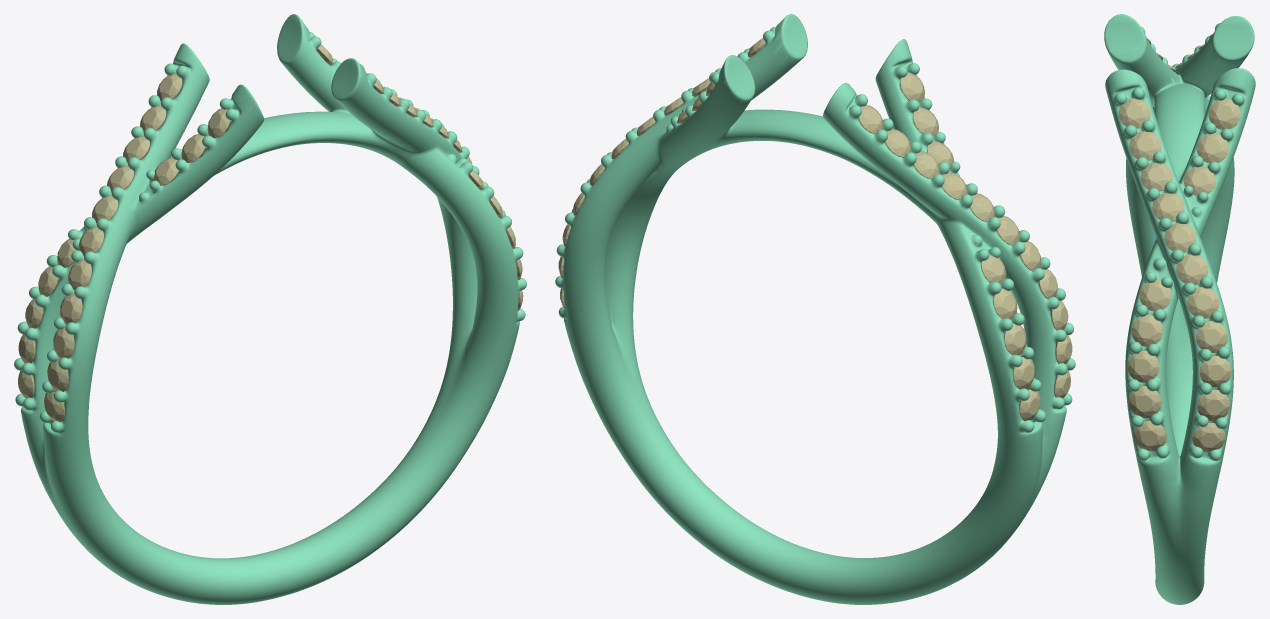
The picture shows the model from 3 angles, left to right: view 1: azimuth 30°, elevation 25°; view 2: azimuth 150°, elevation 25°; view 3: azimuth 270°, elevation 25°; orthographic projection.
Parts seen in each view (by area): view 1: Metal02; view 2: Metal02; view 3: Metal02, Diamond_Gem.001, Diamond_Gem.003, Diamond_Gem.004, Diamond_Gem.030, Diamond_Gem.032, Diamond_Gem.008, Diamond_Gem.005, Diamond_Gem.002, Diamond_Gem.033, Diamond_Gem.006, Diamond_Gem.010 (+8 smaller).
Boxes of the visible parts, x1,y1,x2,y2 form: Metal02: (14,14,526,604); Metal02: (555,14,1075,604); Metal02: (1104,14,1255,604); Diamond_Gem.001: (1128,386,1161,418); Diamond_Gem.003: (1131,314,1163,346); Diamond_Gem.004: (1127,350,1159,382); Diamond_Gem.030: (1197,389,1230,421); Diamond_Gem.032: (1208,98,1240,129); Diamond_Gem.008: (1187,287,1219,318); Diamond_Gem.005: (1196,321,1227,352); Diamond_Gem.002: (1133,420,1166,451); Diamond_Gem.033: (1196,133,1228,163); Diamond_Gem.006: (1199,355,1231,387); Diamond_Gem.010: (1176,254,1208,284).
Bounding box in the file's own units: 21.15 × 23.1 × 5.89.
